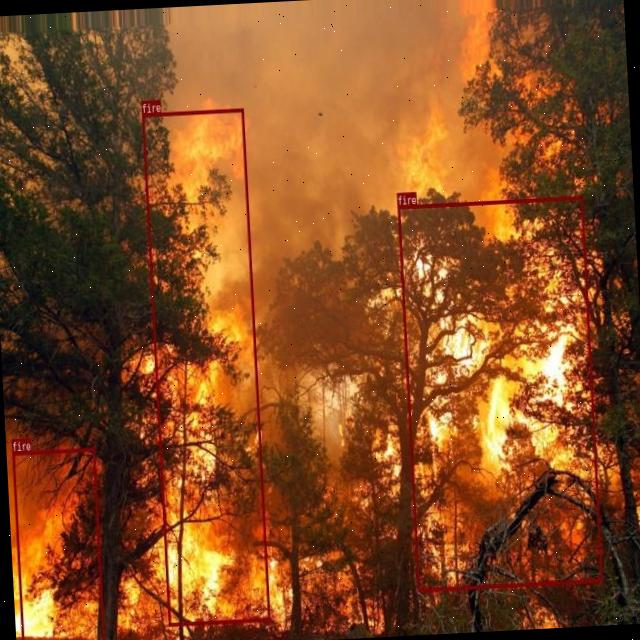fire: (397, 196, 603, 592), (142, 109, 270, 626), (12, 448, 104, 640)
